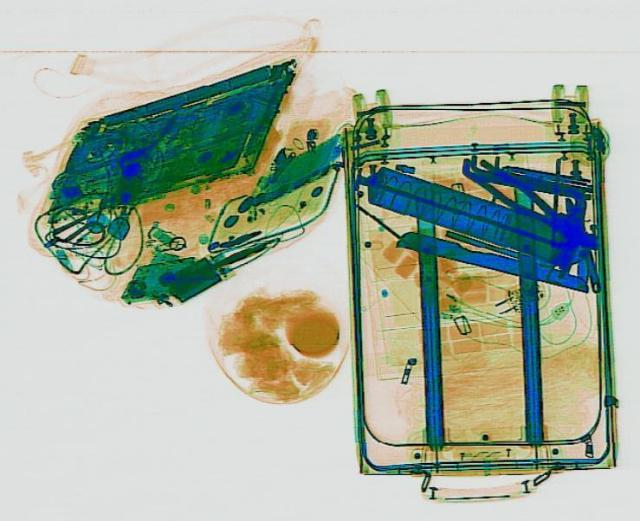Pliers: (454, 152, 608, 256)
